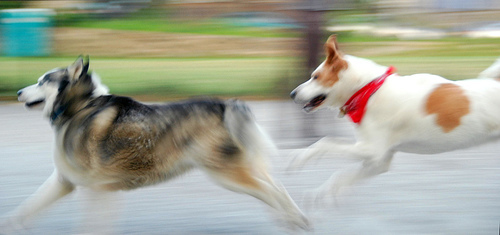dog: (5, 55, 313, 234), (282, 35, 499, 206)
